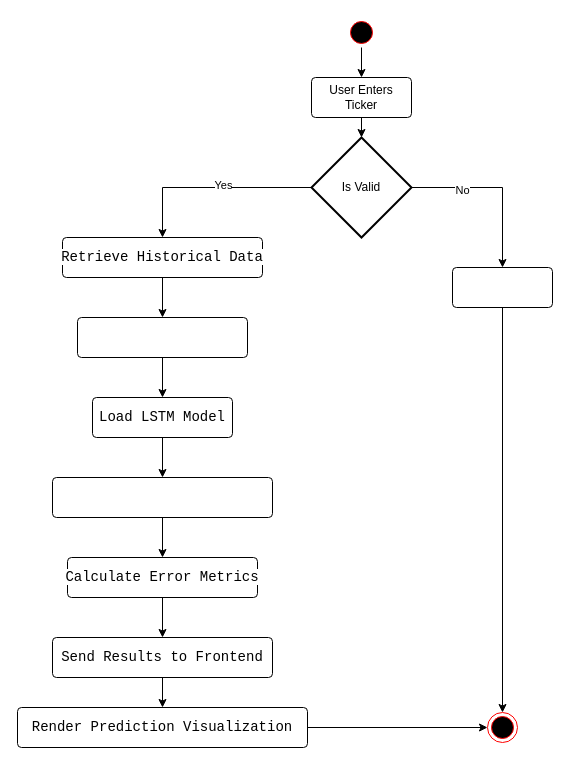
Image size: 570x765. Some labels were removed from this diagram. Each missing label, with the box of its shape:
Display Error Message: (452, 266, 552, 308)
Generate Price Predictions: (52, 476, 272, 518)
Preprocess Data: (76, 316, 248, 358)
